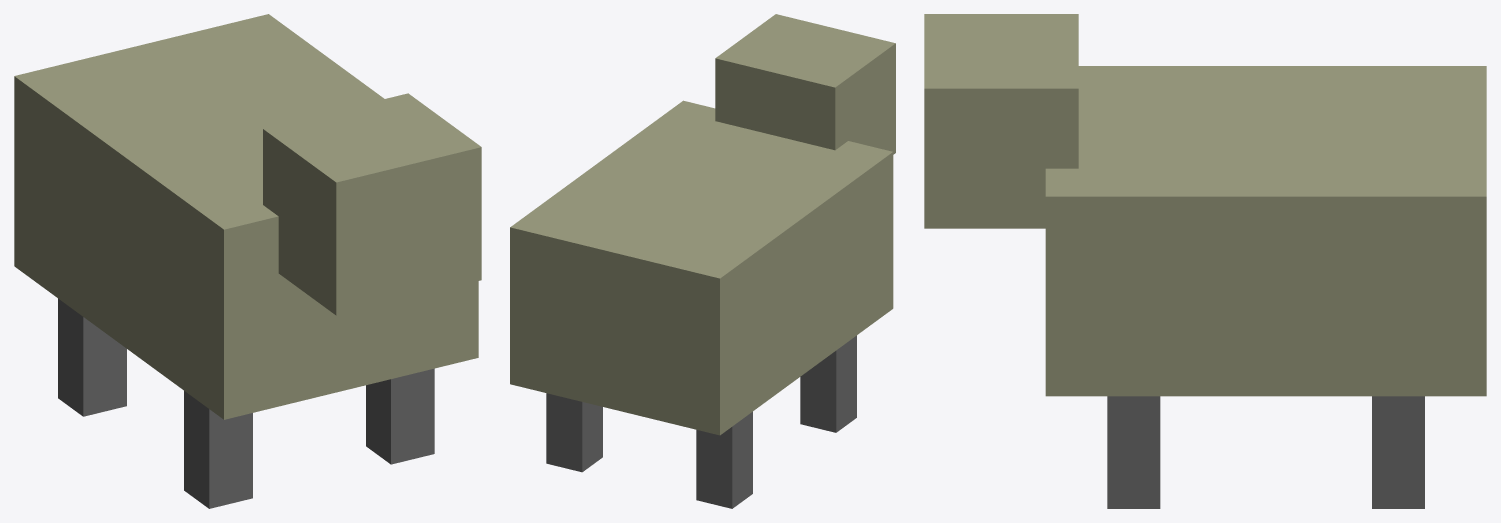
File: Mob_DS_MossGoat_Young1.glb
3 renders of one model, left to right at view 1: azimuth 30°, elevation 25°; view 2: azimuth 150°, elevation 25°; view 3: azimuth 270°, elevation 25°, orthographic. The views are drawn at different scales.
Visible parts, largest first — view 1: Cube.004, Cube.005, Cube, Cube.001, Cube.002; view 2: Cube.004, Cube.005, Cube.001, Cube, Cube.003; view 3: Cube.004, Cube.005, Cube.002, Cube.003.
Part boxes in pixels (box(x1,y1,x2,y2)): Cube.004: box(14, 14, 478, 419); Cube.005: box(263, 93, 481, 315); Cube: box(184, 391, 252, 508); Cube.001: box(58, 298, 126, 416); Cube.002: box(366, 368, 434, 464); Cube.004: box(510, 100, 893, 435); Cube.005: box(715, 14, 895, 154); Cube.001: box(696, 411, 752, 508); Cube: box(800, 335, 856, 432); Cube.003: box(546, 393, 602, 472); Cube.004: box(1045, 66, 1486, 396); Cube.005: box(924, 14, 1078, 228); Cube.002: box(1107, 396, 1160, 508); Cube.003: box(1372, 396, 1424, 508).
Size of the model in its own units: 0.42 by 0.6 by 0.765.
